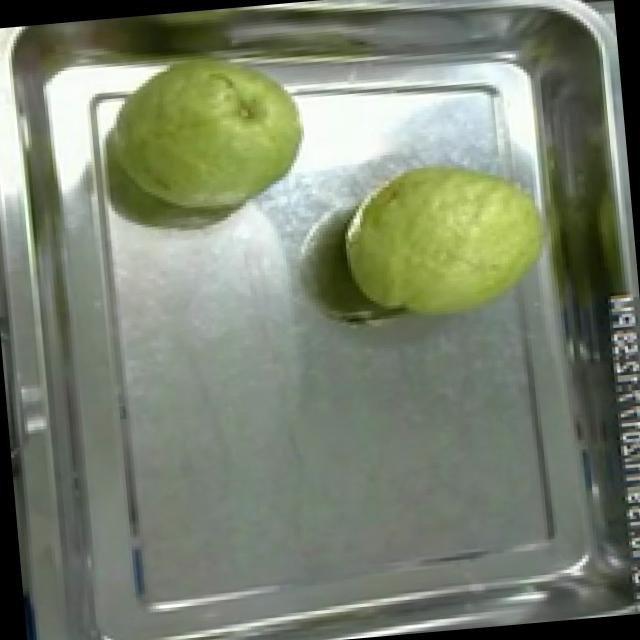Fruit: (328, 140, 561, 337), (94, 36, 323, 236)
